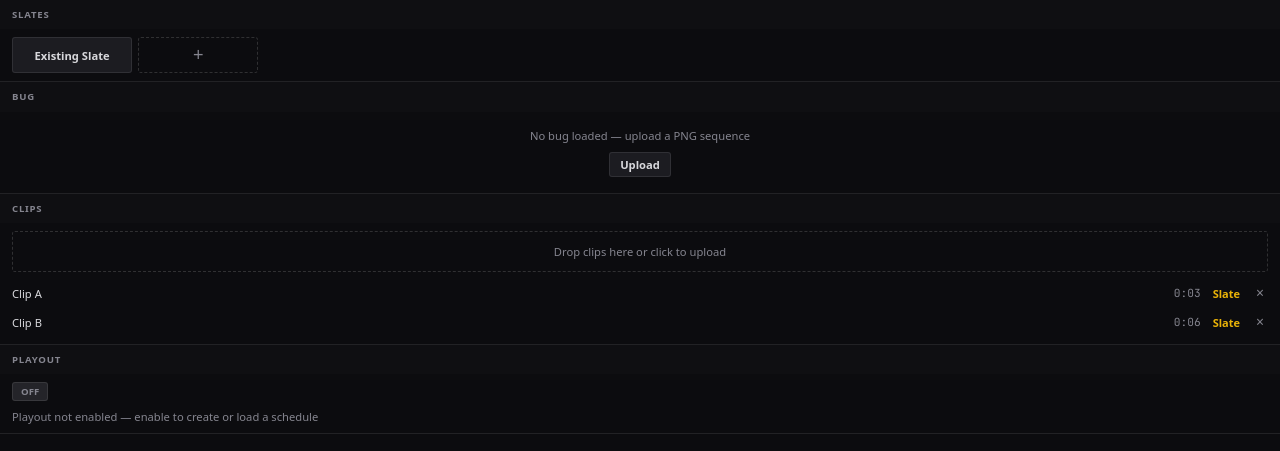
Test case: OAOperationsDashboard › addSlate picks first available clip not already a slate
Expected: the text "Clip A" is shown, [12,286,42,301]
// Click the + add button
What coordinates should you click on to do the following:
click the button "+"
I would click on:
 (198, 55)
Its box is [138,37,258,73].
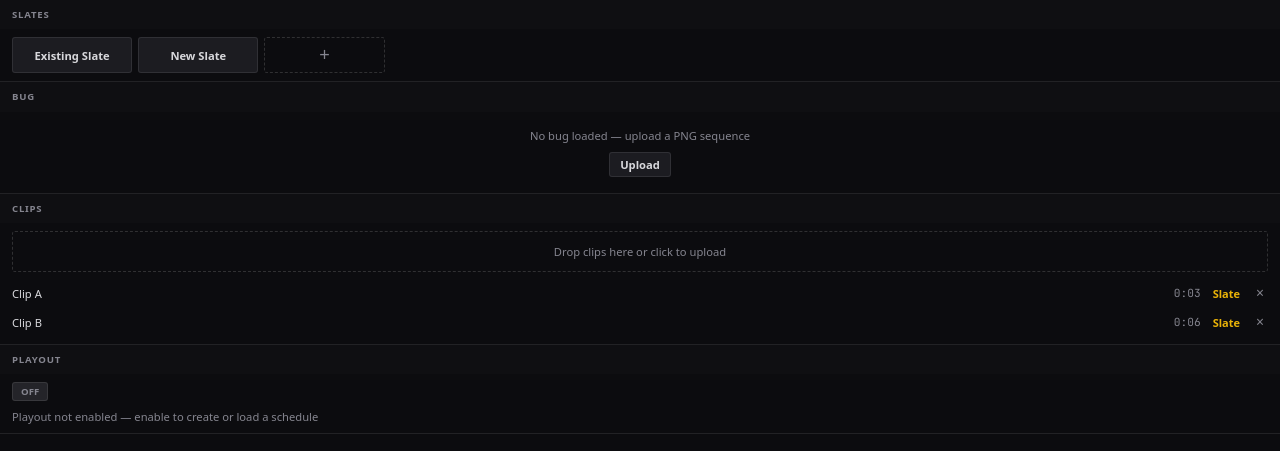
Expected: the text "New Slate" is shown, [170,48,226,63]
